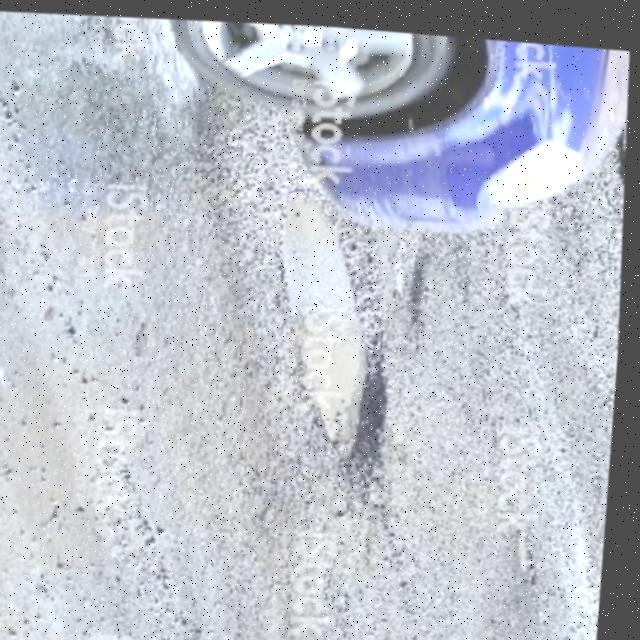Pothole: (260, 178, 413, 485), (416, 636, 451, 640)
